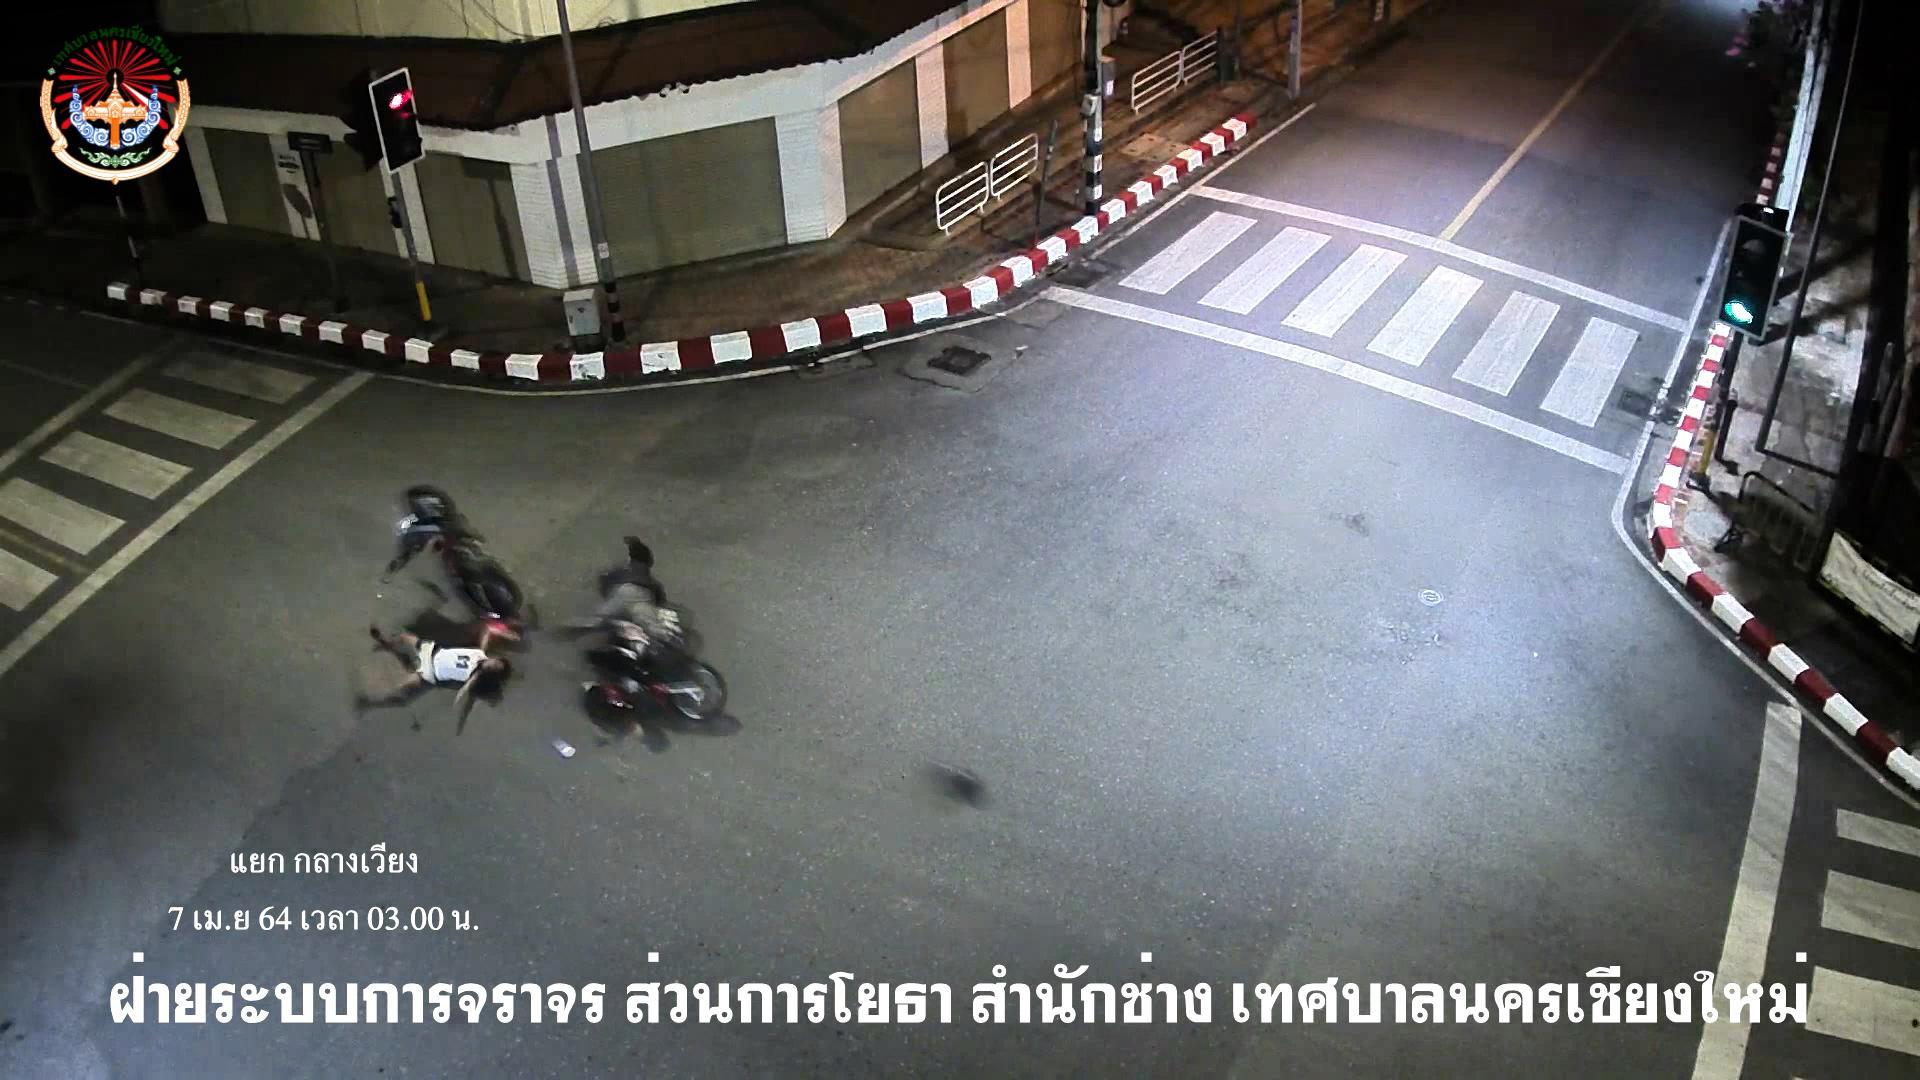accident: (345, 607, 517, 733)
